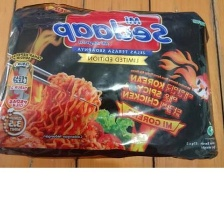snack: (0, 0, 224, 164)
